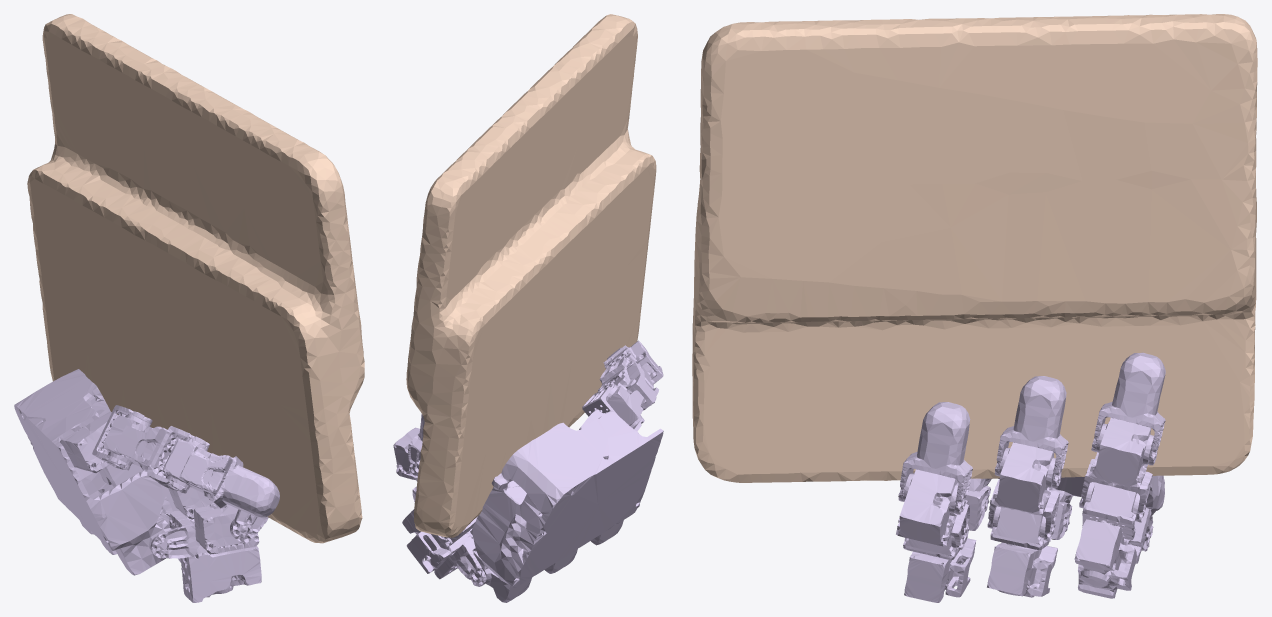
3 views of the same model, side by side, from view 1: azimuth 30°, elevation 25°; view 2: azimuth 150°, elevation 25°; view 3: azimuth 270°, elevation 25° (orthographic). The views are drawn at different scales.
Parts seen in each view (by area): view 1: world, LEAP_hand; view 2: world, LEAP_hand; view 3: world, LEAP_hand.
Boxes of the visible parts, <box> form: world: <box>27,14,364,543</box>; LEAP_hand: <box>14,369,279,602</box>; world: <box>406,14,656,537</box>; LEAP_hand: <box>393,340,663,602</box>; world: <box>692,14,1257,482</box>; LEAP_hand: <box>896,352,1165,602</box>.
Bounding box in the file's own units: 0.1637 × 0.3428 × 0.3053.
